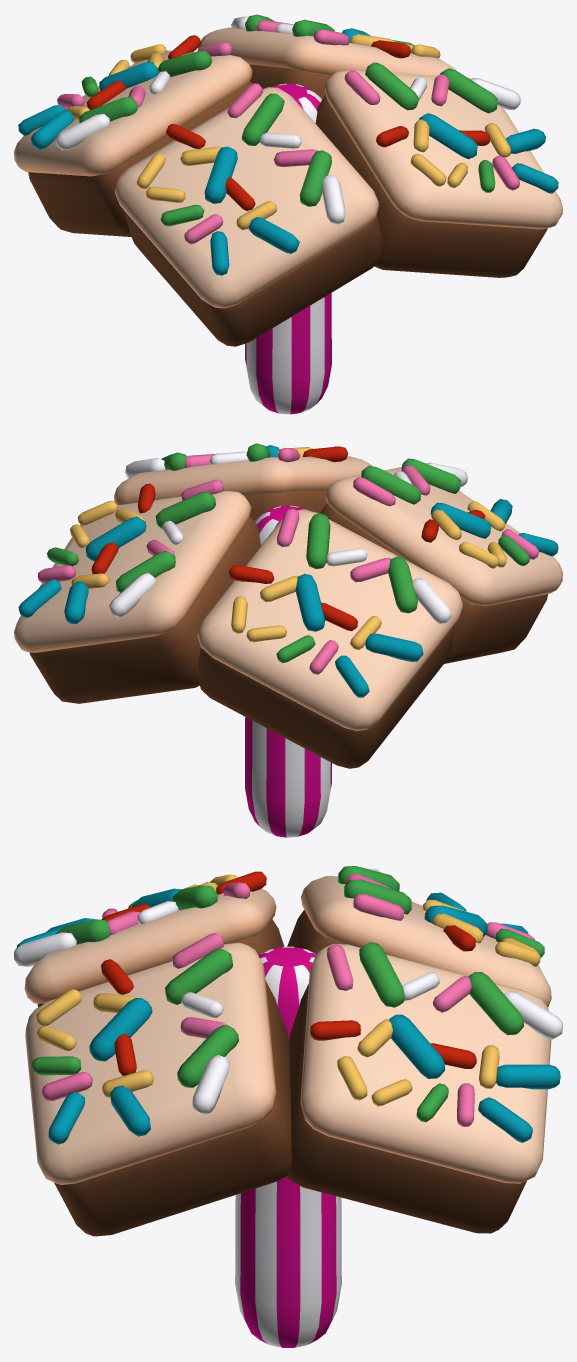
The model's file is cw_PlantsFlowers_27.fbx.
3 views of the same model, one above another, from view 1: azimuth 30°, elevation 25°; view 2: azimuth 150°, elevation 25°; view 3: azimuth 270°, elevation 25° (orthographic). The views are drawn at different scales.
Visible parts, largest first — view 1: cw_pf_27; view 2: cw_pf_27; view 3: cw_pf_27.
Boxes of the visible parts, x1,y1,x2,y2 form: cw_pf_27: [14, 14, 562, 414]; cw_pf_27: [14, 443, 562, 837]; cw_pf_27: [14, 866, 562, 1347].
Bounding box in the file's own units: 158 × 135 × 158.
